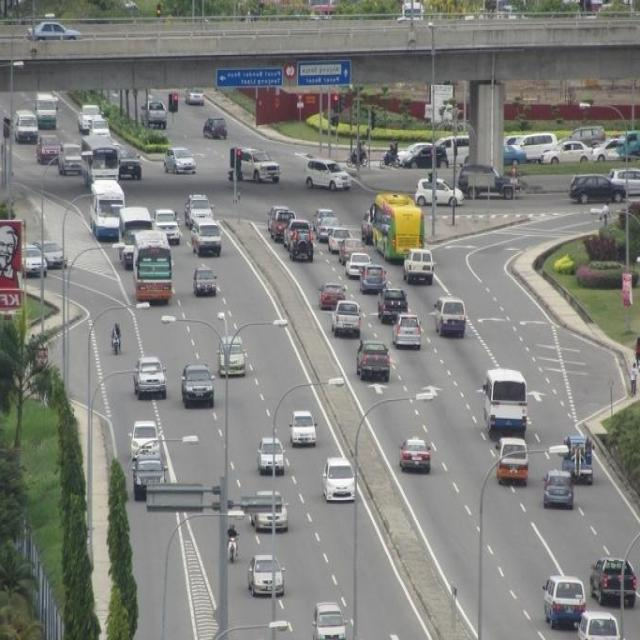Carro Branco: (322, 454, 360, 511), (230, 147, 284, 181), (302, 157, 354, 192), (413, 179, 467, 207), (288, 410, 322, 446), (402, 250, 435, 284), (345, 253, 374, 277)
Carro Cinza: (540, 470, 578, 509)
Carro Prata: (249, 491, 290, 534), (245, 555, 288, 593), (310, 596, 346, 640), (256, 440, 294, 475), (134, 358, 165, 397), (15, 246, 50, 278), (162, 146, 200, 174), (393, 312, 422, 348), (333, 299, 362, 333), (604, 168, 640, 193), (35, 240, 69, 264), (186, 193, 210, 227)
Carro Preto: (587, 556, 636, 601), (459, 164, 519, 200), (566, 173, 628, 204), (180, 362, 216, 407), (354, 338, 390, 382), (375, 283, 408, 324)
Carro Vermelho: (400, 435, 431, 477), (316, 281, 347, 313)
Onibus: (132, 228, 174, 307), (372, 195, 423, 260), (483, 369, 528, 436), (81, 135, 118, 191), (93, 177, 125, 241), (121, 205, 152, 266)
Van Prata: (543, 572, 583, 630), (432, 290, 470, 342), (496, 441, 530, 489), (575, 611, 620, 640)
